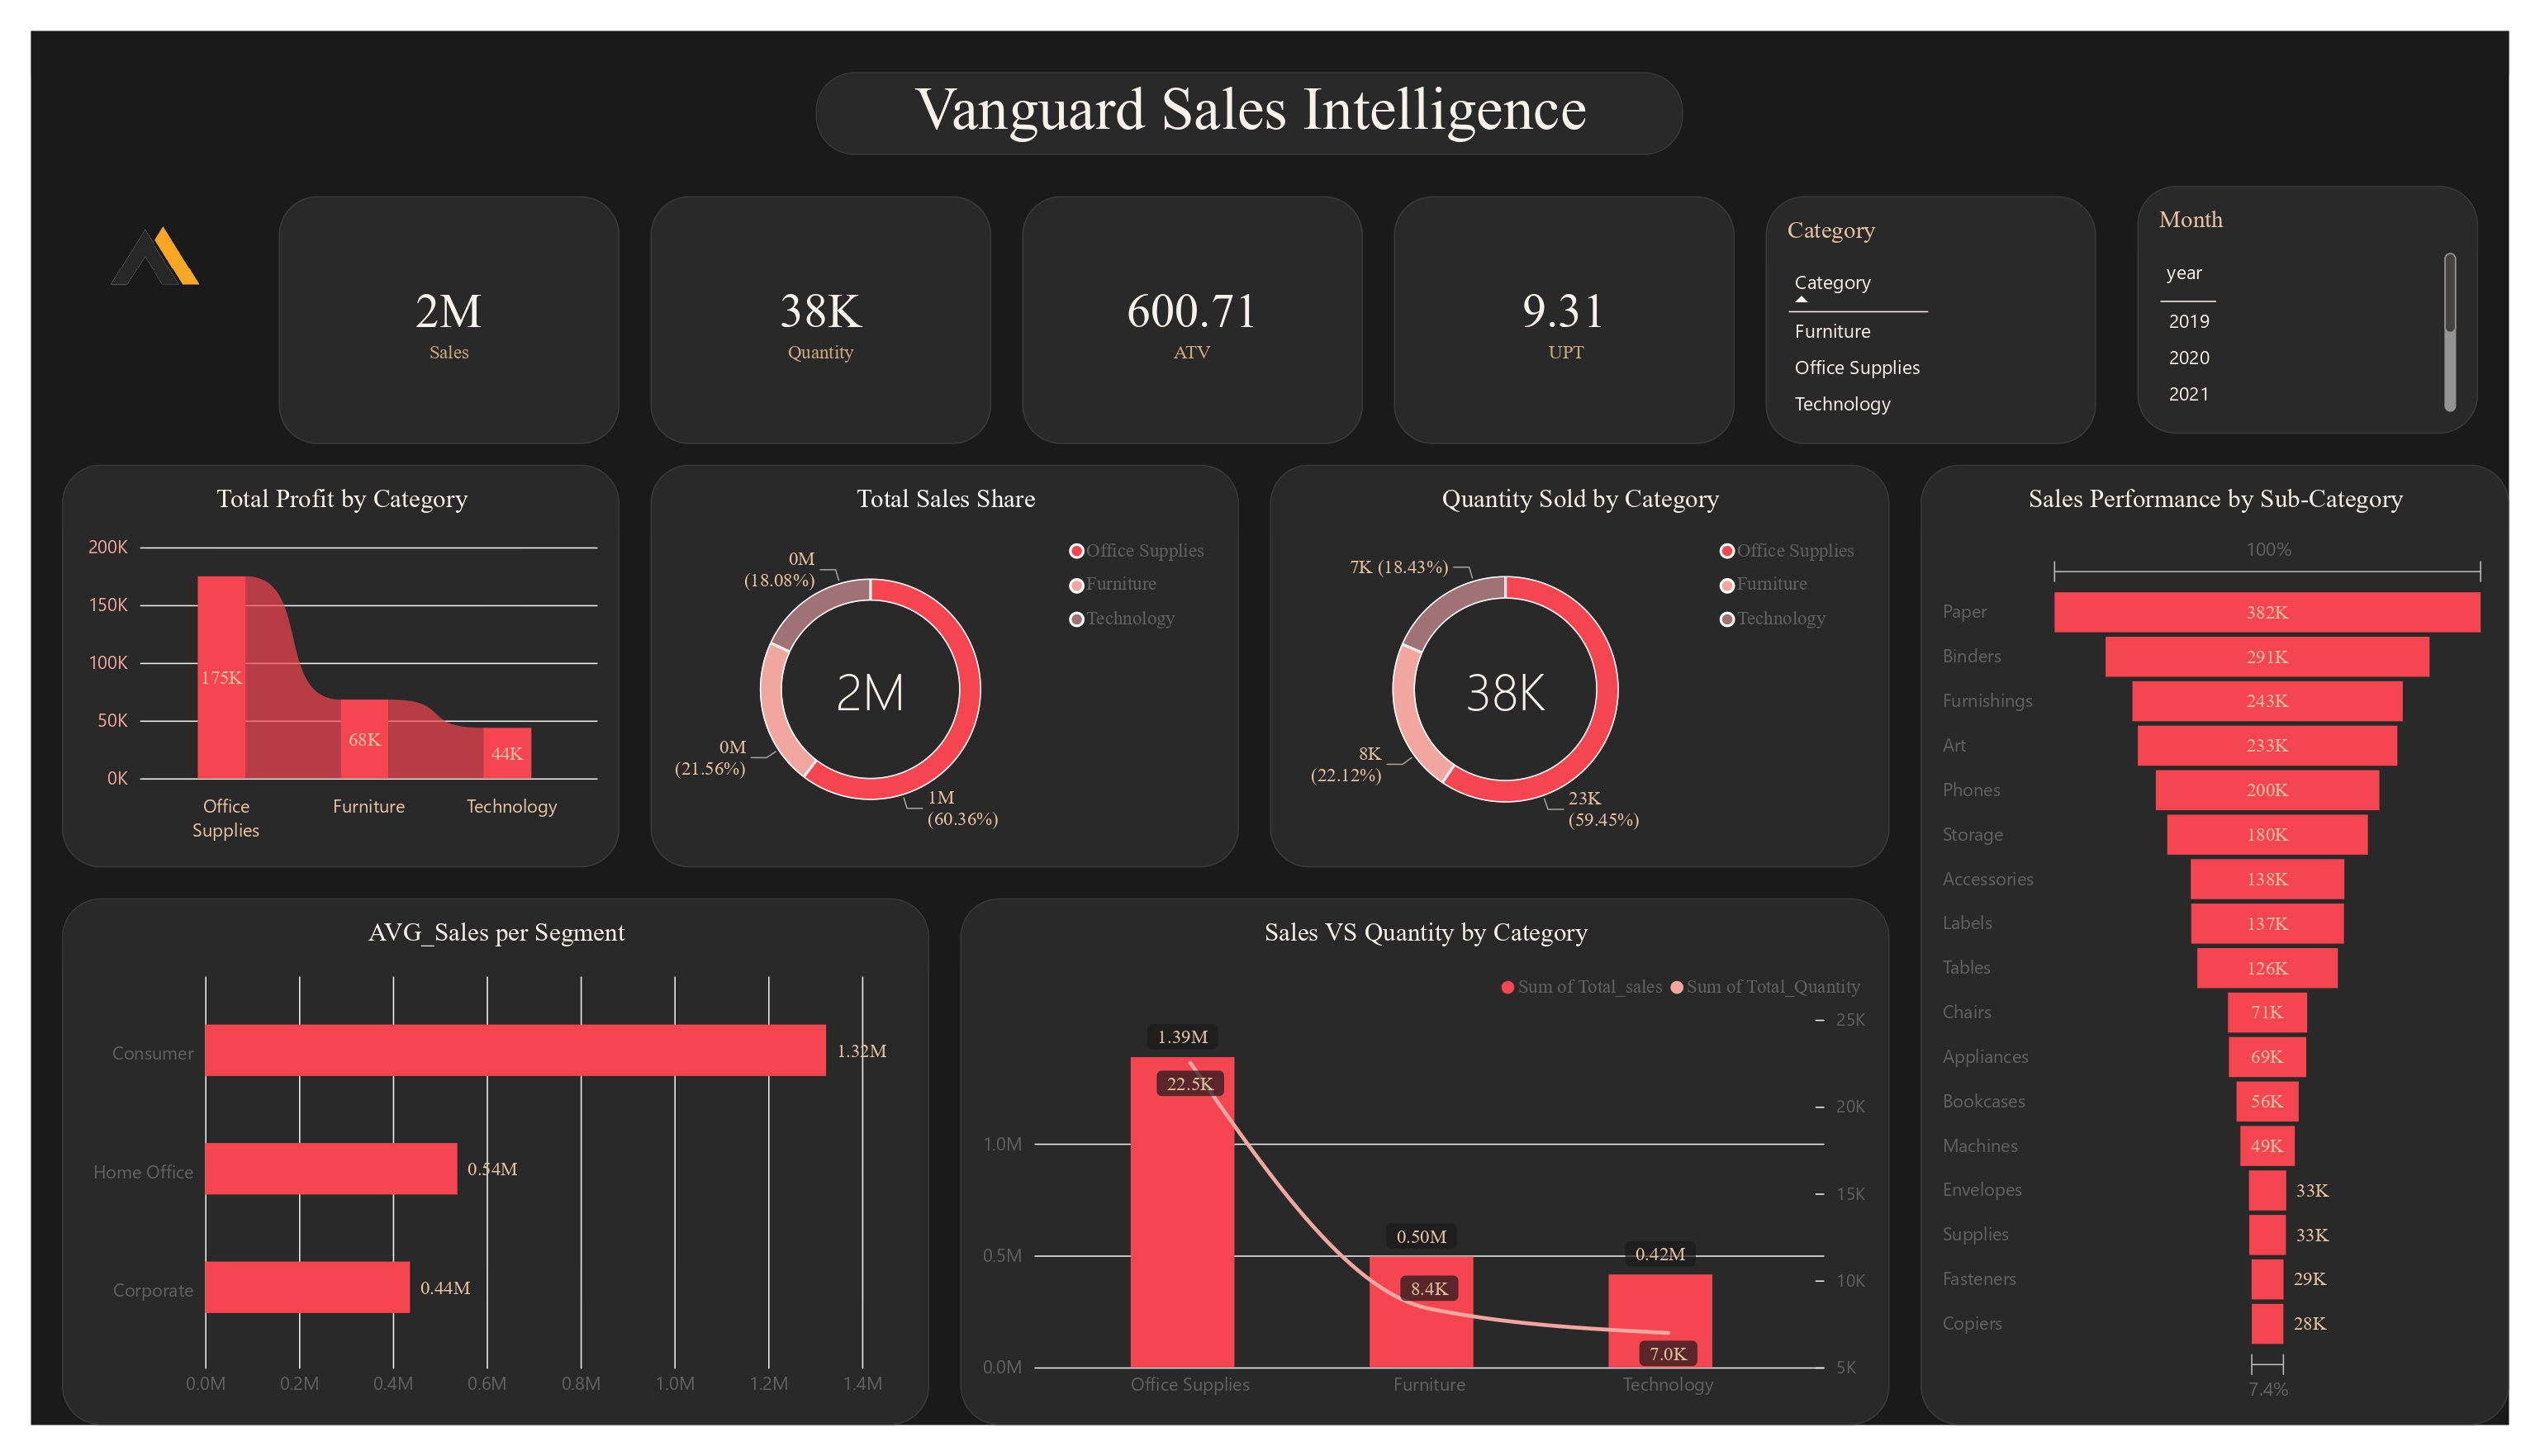

Layout of this report page (visuals, bound fields, positions):
{"tool":"powerbi","page":{"name":"Page 1","canvas":[1920,1080],"ordinal":0},"visuals":[{"type":"lineClusteredColumnComboChart","title":"Sales VS Quantity by Category","fields":{"Y":["Sum(vw_Summary.Total_sales)"],"Category":["DimProducts.Category"],"Y2":["Sum(vw_Summary.Total_Quantity)"]},"box":[720,672,720,408],"z":0},{"type":"donutChart","title":"Total Sales Share","fields":{"Category":["DimProducts.Category"],"Y":["Sum(vw_Summary.Total_sales)"]},"box":[480,336,456,312],"z":1000},{"type":"donutChart","title":"Quantity Sold by Category","fields":{"Category":["DimProducts.Category"],"Y":["Sum(vw_Summary.Total_Quantity)"]},"box":[960,336,480,312],"z":2000},{"type":"funnel","title":"Sales Performance by Sub-Category","fields":{"Y":["Sum(vw_Summary.Total_sales)"],"Category":["DimProducts.Subcategory"]},"box":[1464,336,456,744],"z":3000},{"type":"barChart","title":"AVG_Sales per Segment","fields":{"Category":["DimCustomers.Segment"],"Y":["Sum(vw_Summary.AVG_Sales)"]},"box":[24,672,672,408],"z":4000},{"type":"ribbonChart","title":"Total Profit by Category","fields":{"Category":["DimProducts.Category"],"Y":["Sum(FactSales.Profit)"]},"box":[24,336,432,312],"z":5000},{"type":"card","fields":{"Values":["Avg(KBIs.UPT)"]},"box":[1056,128,264,192],"z":6000},{"type":"card","fields":{"Values":["Sum(vw_Summary.Total_sales)"]},"box":[192,128,264,192],"z":7000},{"type":"card","fields":{"Values":["Sum(vw_Summary.Total_Quantity)"]},"box":[480,128,264,192],"z":8000},{"type":"card","fields":{"Values":["Avg(KBIs.ATV)"]},"box":[768,128,264,192],"z":9000},{"type":"tableEx","title":"Month","fields":{"Values":["DimDate.year"]},"box":[1632,120,264,192],"z":10000},{"type":"tableEx","title":"Category","fields":{"Values":["DimProducts.Category"]},"box":[1344,128,256,192],"z":11000},{"type":"image","box":[0,144,192,216],"z":12000},{"type":"shape","title":"Vanguard Sales Intelligence","box":[608,32,672,64],"z":13000}]}

Visuals, with their boxes on the page's 1920x1080 design canvas (x1, y1, x2, y2). These are canvas units, not pixel positions in the 2540x1456 screenshot, which may show the page scaled, cropped or inside an application window:
"Sales VS Quantity by Category" lineClusteredColumnComboChart: 720:672:1440:1080
"Total Sales Share" donutChart: 480:336:936:648
"Quantity Sold by Category" donutChart: 960:336:1440:648
"Sales Performance by Sub-Category" funnel: 1464:336:1920:1080
"AVG_Sales per Segment" barChart: 24:672:696:1080
"Total Profit by Category" ribbonChart: 24:336:456:648
card - Avg(KBIs.UPT): 1056:128:1320:320
card - Sum(vw_Summary.Total_sales): 192:128:456:320
card - Sum(vw_Summary.Total_Quantity): 480:128:744:320
card - Avg(KBIs.ATV): 768:128:1032:320
"Month" tableEx: 1632:120:1896:312
"Category" tableEx: 1344:128:1600:320
image: 0:144:192:360
"Vanguard Sales Intelligence" shape: 608:32:1280:96
